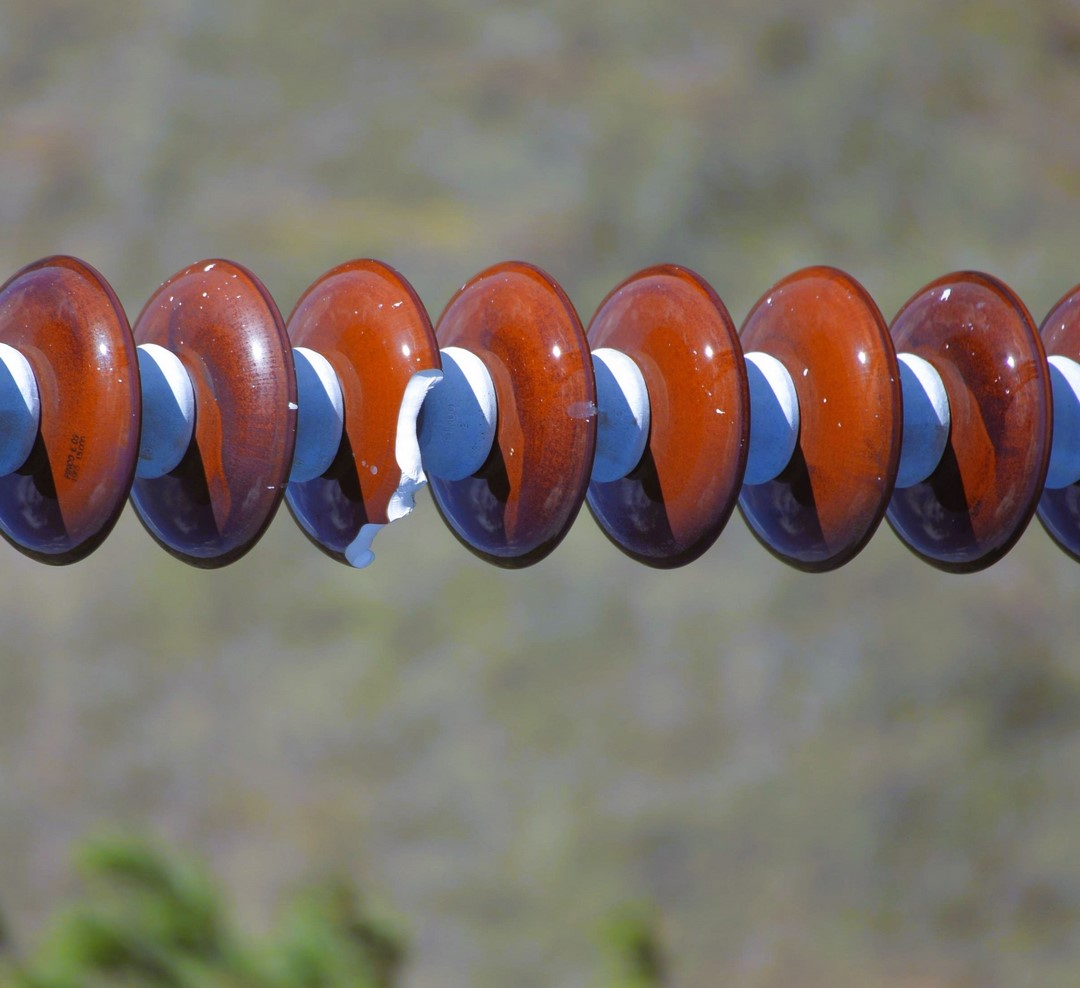insulator breakage: (274, 238, 451, 580)
